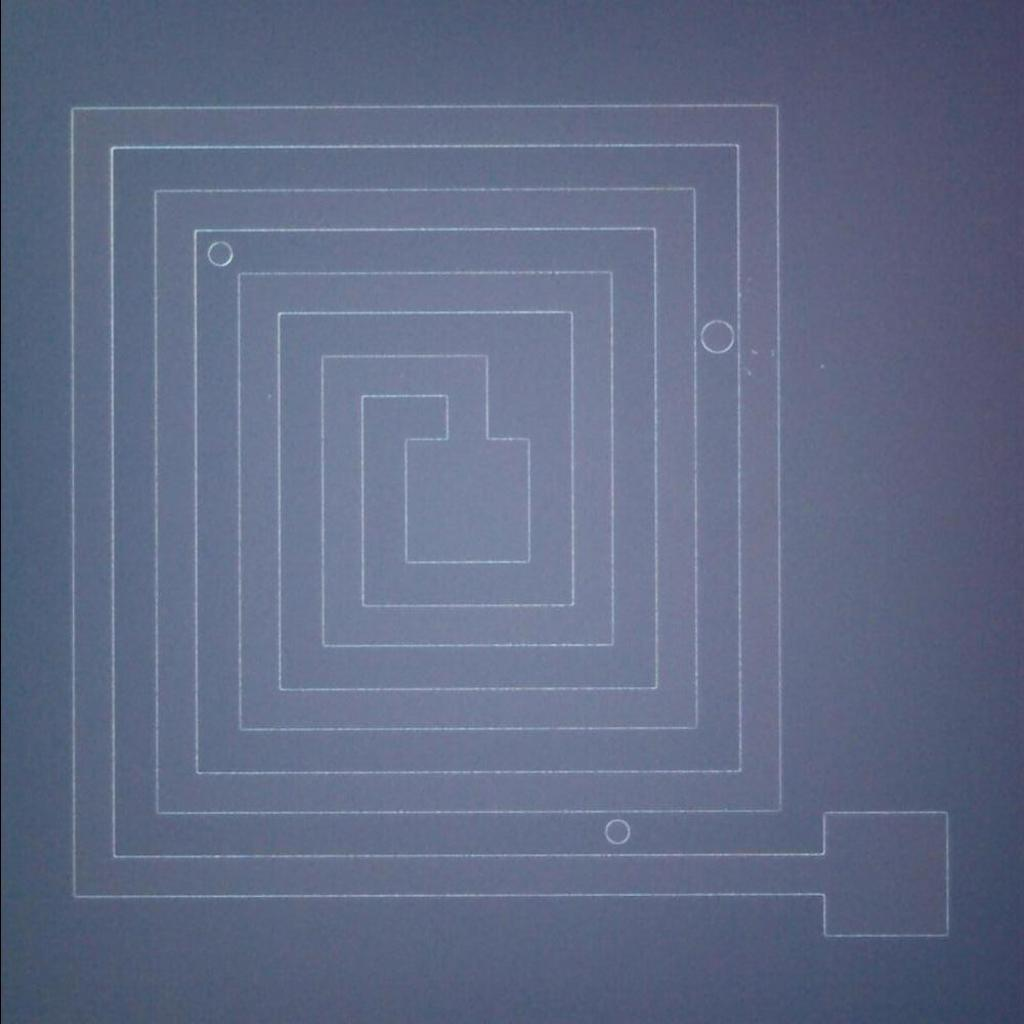circle: (698, 311, 736, 360), (203, 236, 237, 274), (604, 815, 633, 848)
